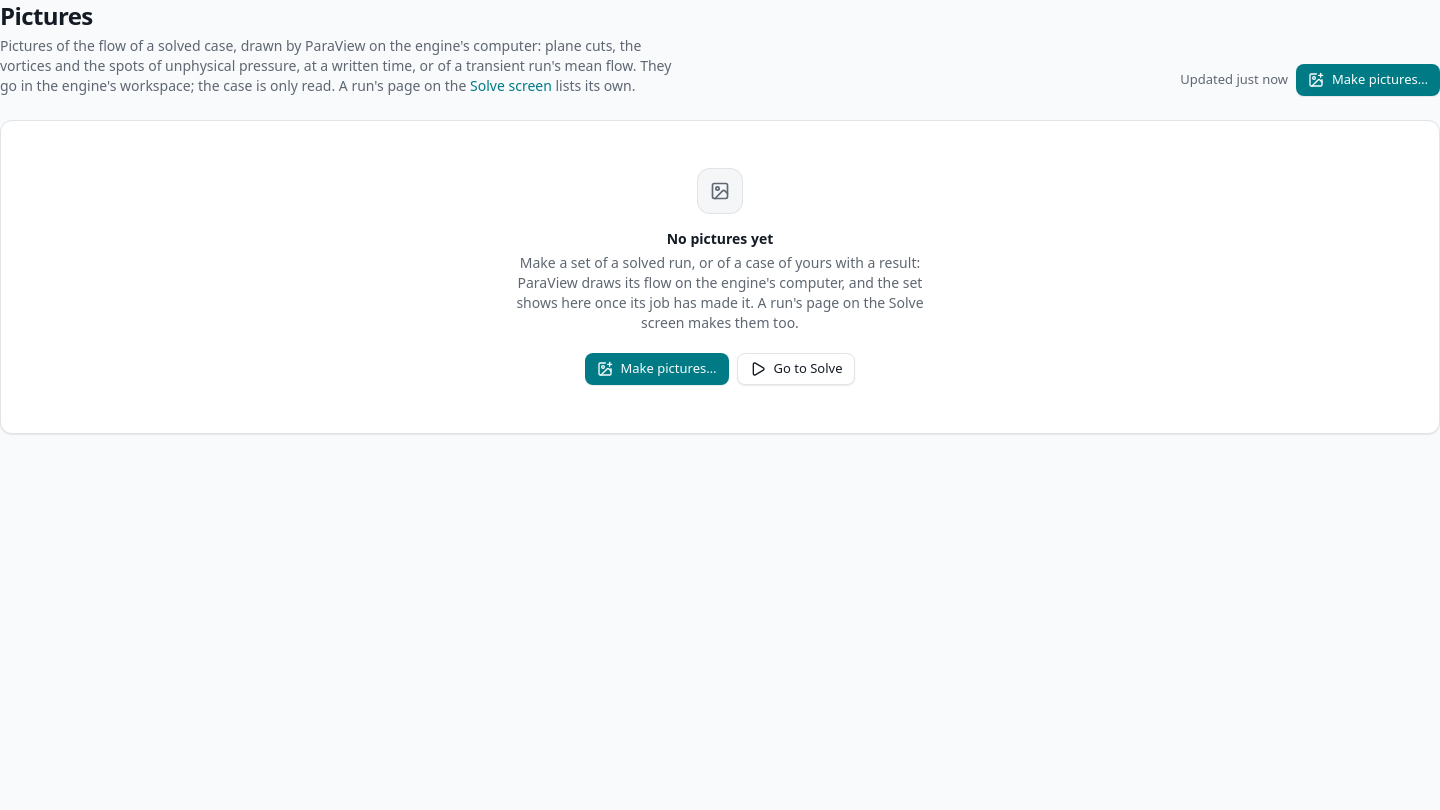
Scenario: the Pictures screen › counts a join apart on the disk of the run's folder, when that isn't the workspace's
Step 1. Click the button "Make pictures…" next to "just now" → [1368, 80], box top-left (1296, 64), bottom-right (1439, 96)
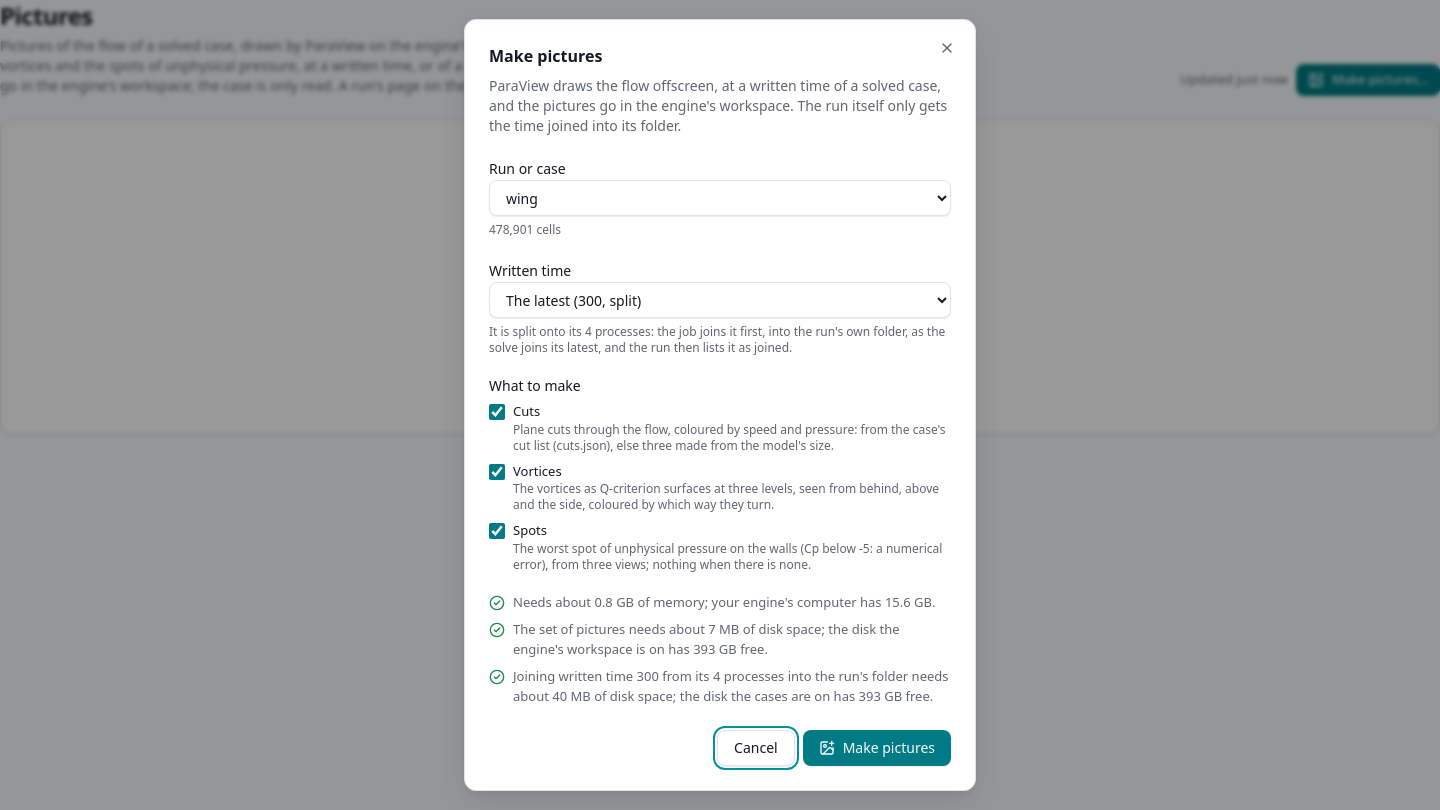
Now the dialog "Make pictures" shows "It is split onto its 4 processes: the job joins it first", box top-left (489, 323), bottom-right (945, 356)
a case you made: its split time is read as it is
Step 2. Select "ahmed" in the dropdown labelled "Run or case" → [720, 198], box top-left (489, 180), bottom-right (951, 216)
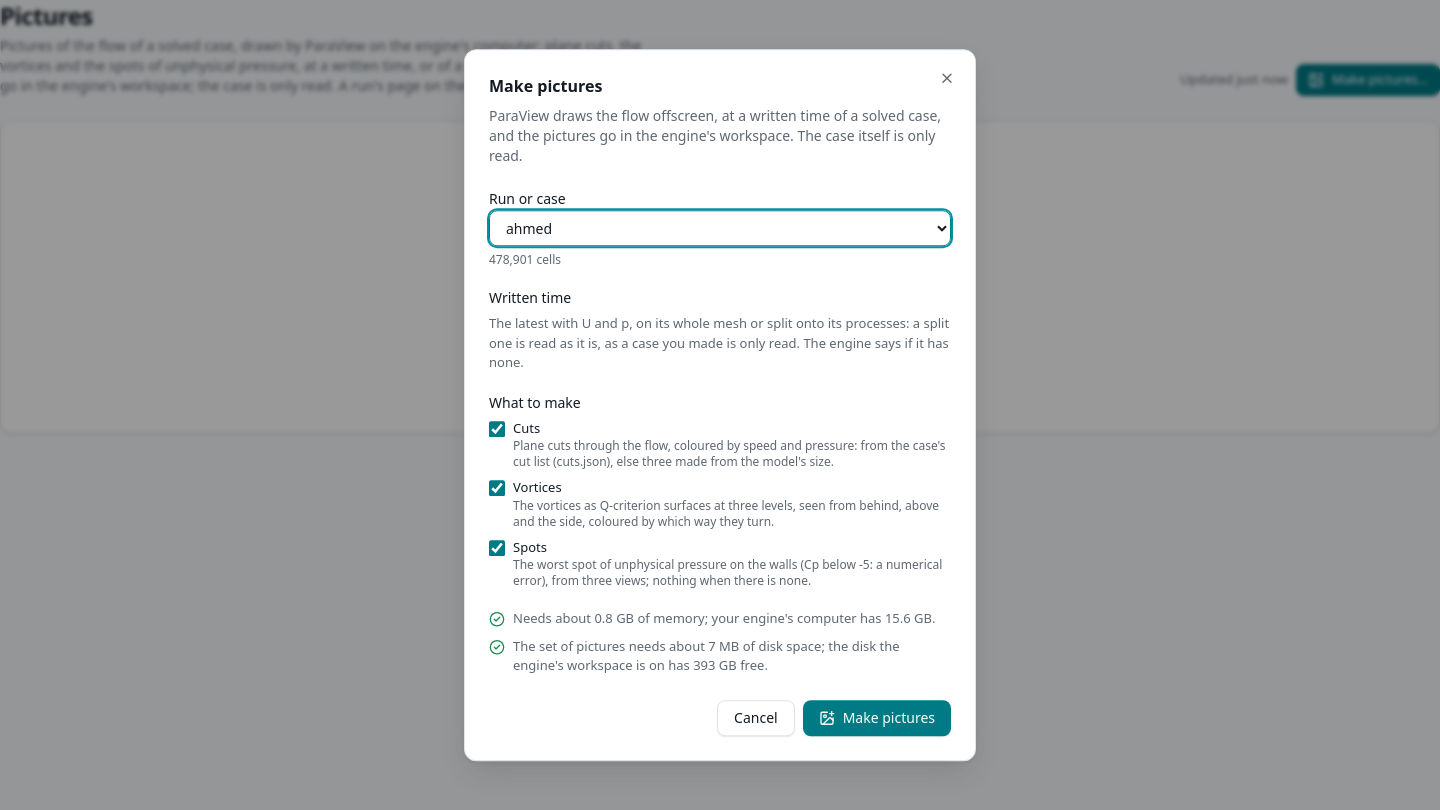
Now the dialog "Make pictures" shows "The case itself is only read.", box top-left (489, 126), bottom-right (935, 165)
